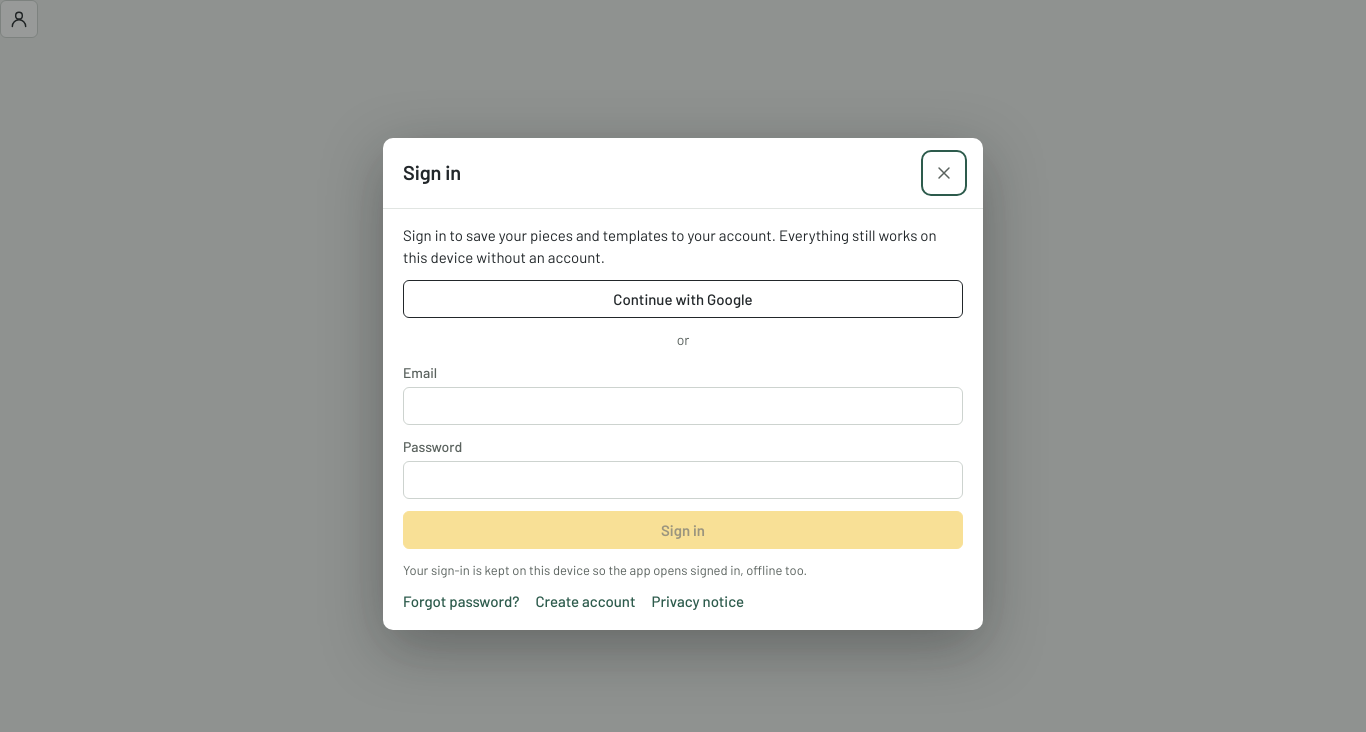
Scenario: sign-in screens (ADR-136) › the privacy notice names the controller contact, Supabase in the EU and the session storage (ADR-130)
The width and height of the screenshot is (1366, 732).
Click the button "Privacy notice" at (698, 601), box [652,592,744,610]
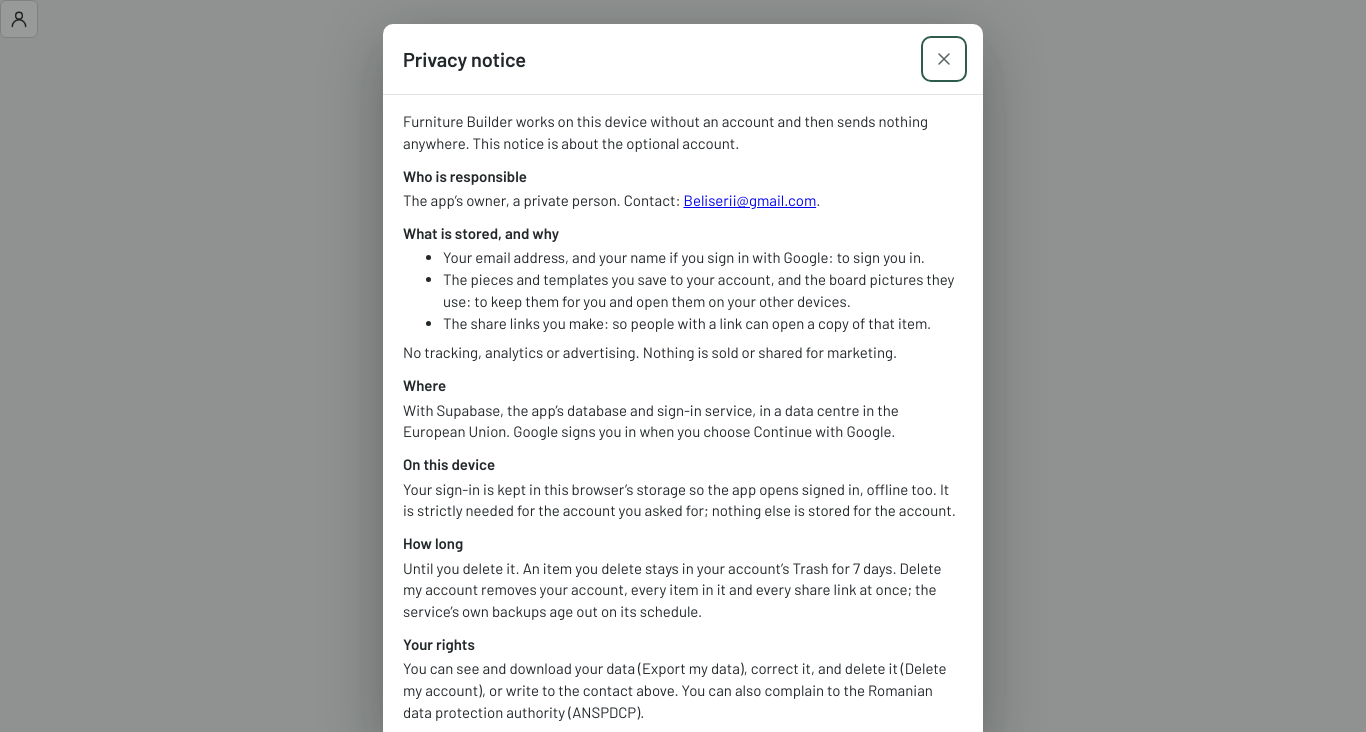
Expected: the link "Beliserii@gmail.com" is shown, [684,191,816,209]
Expected: the text "Your sign-in is kept in this browser’s storage" is shown, [403,480,956,519]
Expected: the text "ANSPDCP" is shown, [403,659,947,721]
